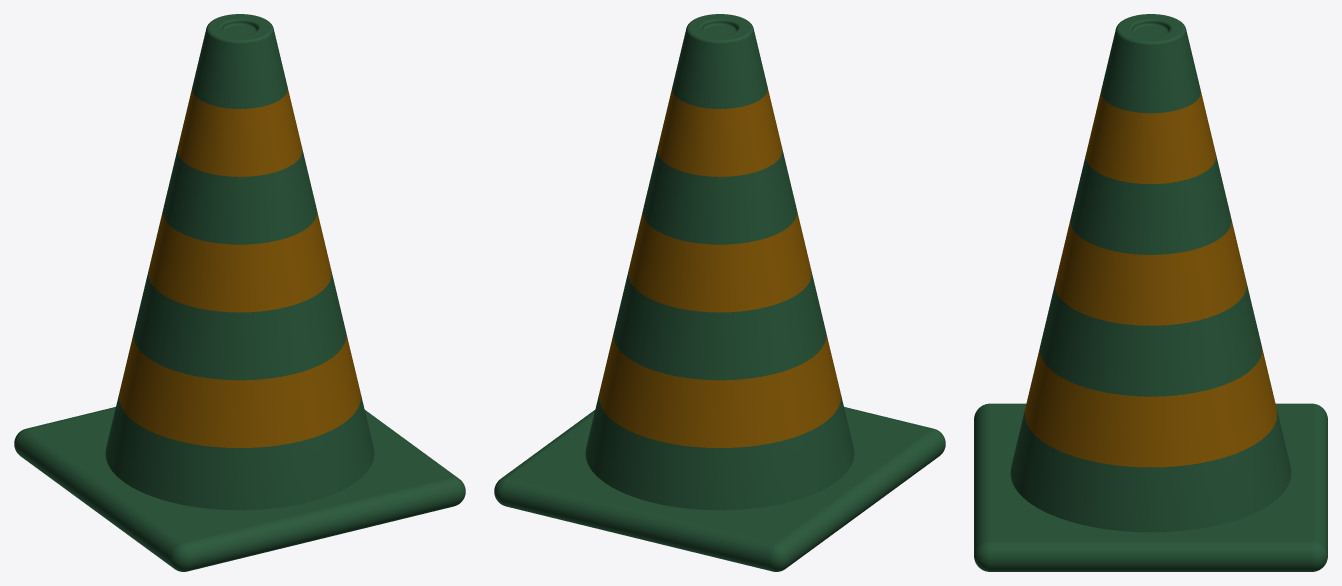
File: Construction Cone .fbx
3 views of the same model, side by side, from view 1: azimuth 30°, elevation 25°; view 2: azimuth 150°, elevation 25°; view 3: azimuth 270°, elevation 25° (orthographic). The views are drawn at different scales.
Visible parts, largest first — view 1: Cylinder, Cube; view 2: Cylinder, Cube; view 3: Cylinder, Cube.
Part boxes in pixels (x1,y1,x2,y2): Cylinder: (105,14,374,510); Cube: (14,407,465,571); Cylinder: (585,14,854,510); Cube: (494,407,945,571); Cylinder: (1010,14,1291,532); Cube: (974,403,1327,571).
Bounding box in the file's own units: 54.45 × 80.59 × 54.45.
